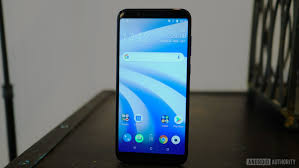htc: (112, 6, 194, 165)
